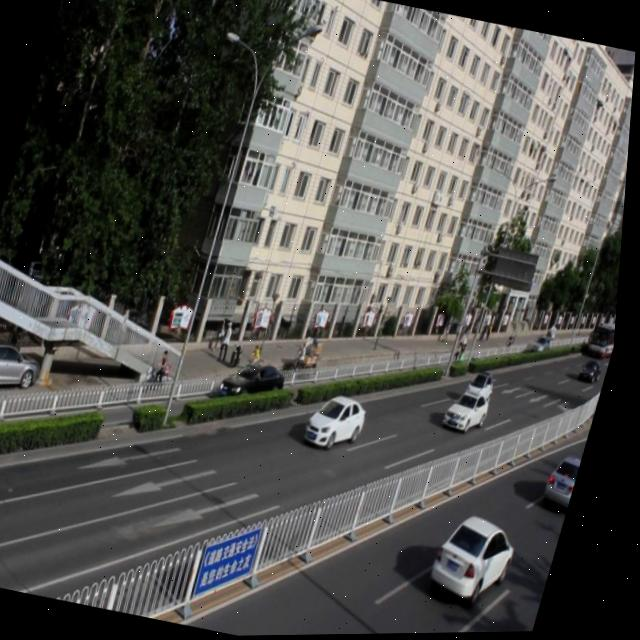car: (431, 508, 530, 607), (305, 387, 377, 456), (223, 353, 295, 408), (444, 386, 498, 440), (544, 453, 589, 512), (465, 367, 502, 406)
